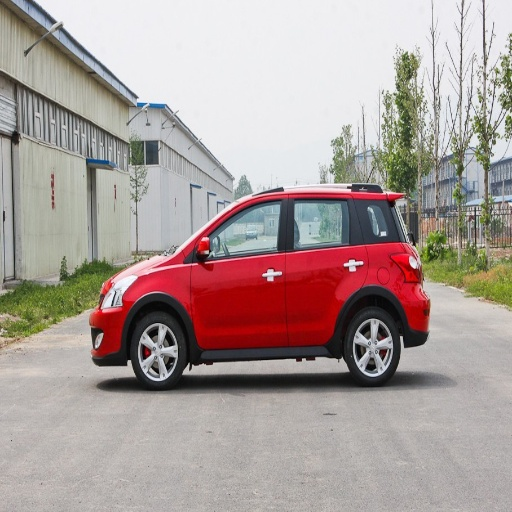back_left_door: (285, 197, 369, 342)
front_left_door: (192, 196, 288, 345)
